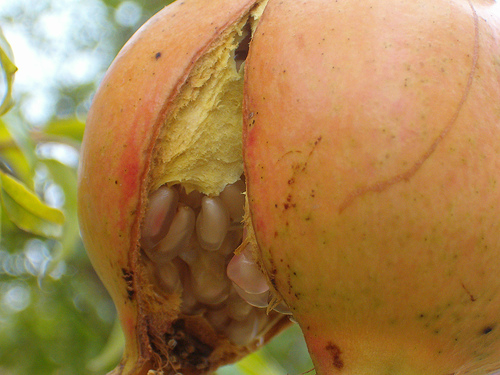pomogranate: (77, 0, 498, 374)
